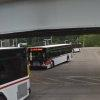Bus: (22, 39, 79, 74)
